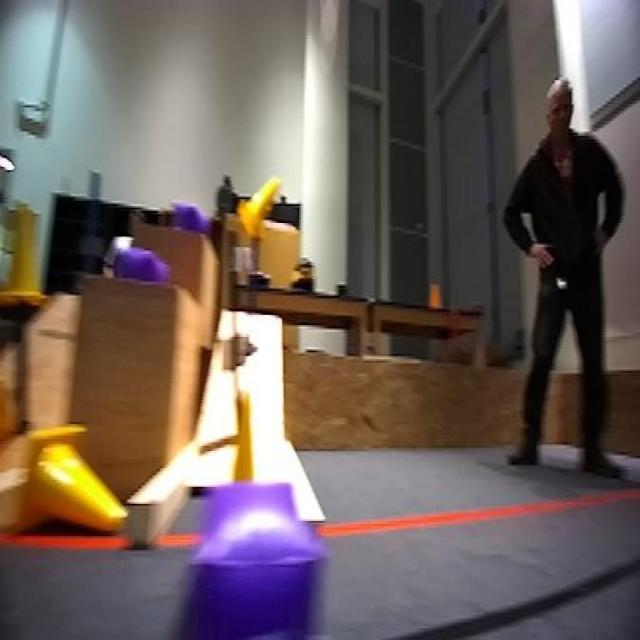frc_cone: (26, 417, 137, 553), (210, 388, 283, 533), (3, 189, 61, 313), (233, 170, 283, 242)
frc_cube: (170, 483, 336, 640), (114, 242, 163, 289), (170, 198, 205, 233)
